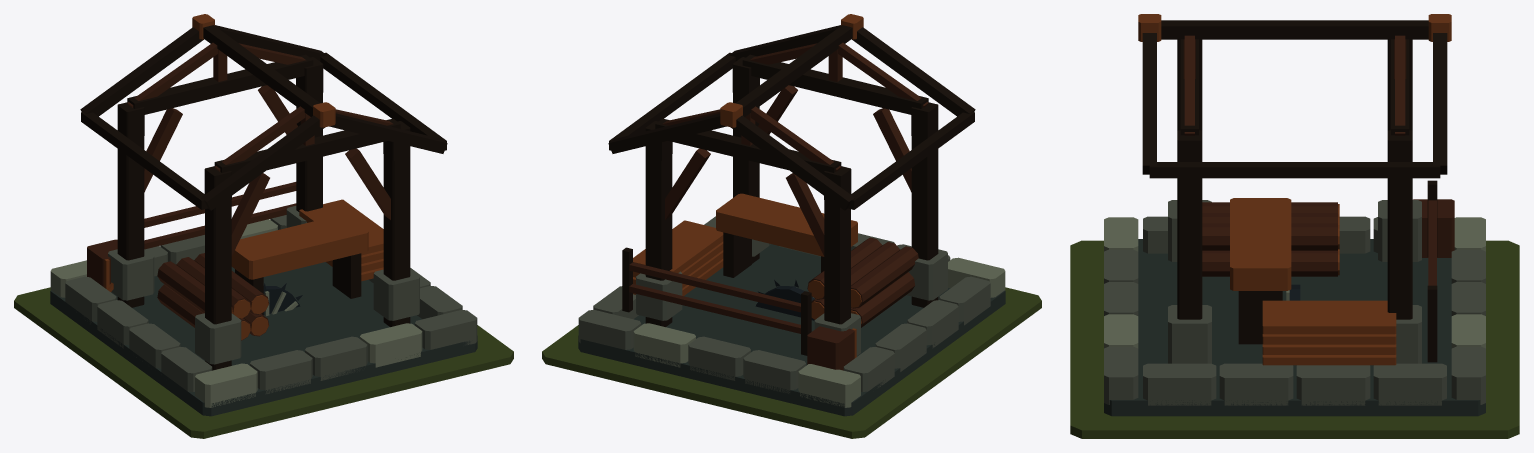
Rendered from sawmill_t3.glb.
3 renders of one model, left to right at view 1: azimuth 30°, elevation 25°; view 2: azimuth 150°, elevation 25°; view 3: azimuth 270°, elevation 25°, orthographic. The views are drawn at different scales.
Visible parts, largest first — view 1: MMR | sawmill | T03 Architecture.001, MMR | sawmill | Tier 03 Ground.001, MMR | sawmill | T03 Header Frame.001, MMR | sawmill | T03 Saw Blade.001; view 2: MMR | sawmill | T03 Architecture.001, MMR | sawmill | Tier 03 Ground.001, MMR | sawmill | T03 Header Frame.001, MMR | sawmill | T03 Saw Blade.001; view 3: MMR | sawmill | T03 Architecture.001, MMR | sawmill | Tier 03 Ground.001, MMR | sawmill | T03 Header Frame.001.
Boxes of the visible parts, <box> form: MMR | sawmill | T03 Architecture.001: <box>50,14,477,416</box>; MMR | sawmill | Tier 03 Ground.001: <box>14,287,513,438</box>; MMR | sawmill | T03 Header Frame.001: <box>117,42,410,202</box>; MMR | sawmill | T03 Saw Blade.001: <box>263,283,302,316</box>; MMR | sawmill | T03 Architecture.001: <box>578,14,1005,416</box>; MMR | sawmill | Tier 03 Ground.001: <box>542,287,1041,438</box>; MMR | sawmill | T03 Header Frame.001: <box>645,42,938,202</box>; MMR | sawmill | T03 Saw Blade.001: <box>755,280,814,320</box>; MMR | sawmill | T03 Architecture.001: <box>1104,14,1485,416</box>; MMR | sawmill | Tier 03 Ground.001: <box>1070,240,1519,438</box>; MMR | sawmill | T03 Header Frame.001: <box>1177,35,1412,161</box>.
Size of the model in its own units: 2.35 by 2.15 by 2.35.
Materials: 1 (1 with a texture image).
